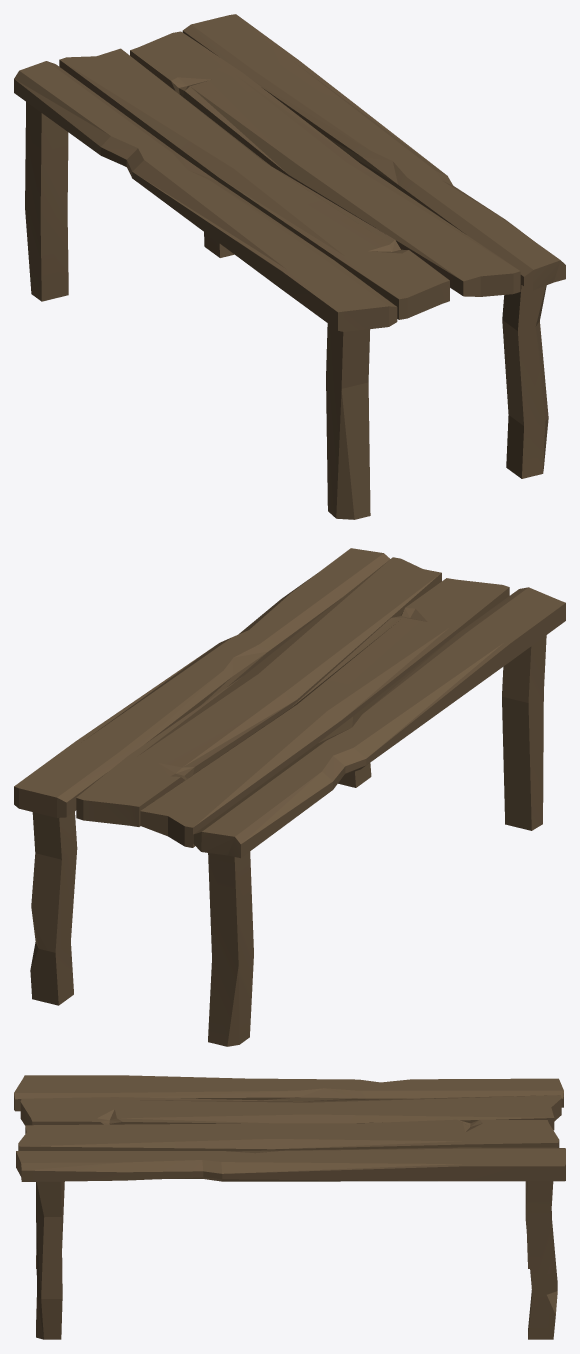
Rendered from Banca_02.glb.
3 renders of one model, top to bottom at view 1: azimuth 30°, elevation 25°; view 2: azimuth 150°, elevation 25°; view 3: azimuth 270°, elevation 25°, orthographic. The views are drawn at different scales.
Visible parts, largest first — view 1: SM_Prop_Table_01; view 2: SM_Prop_Table_01; view 3: SM_Prop_Table_01.
Boxes of the visible parts, x1,y1,x2,y2 form: SM_Prop_Table_01: [14, 14, 565, 519]; SM_Prop_Table_01: [14, 548, 565, 1046]; SM_Prop_Table_01: [14, 1075, 565, 1339].
Size of the model in its own units: 1.13 by 1.02 by 2.86.
1 material, 1 textured.
